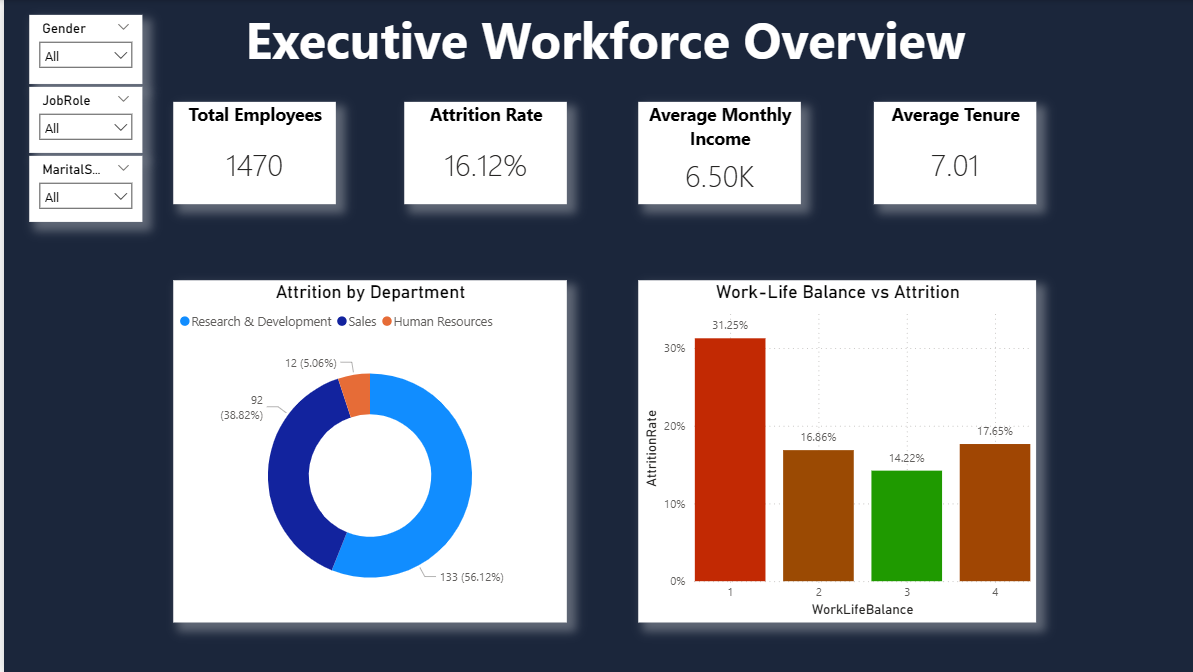

This screenshot's page, from the dashboard's own definition file:
{"tool":"powerbi","page":{"name":"Executive Workforce Overview","canvas":[1280,720],"ordinal":0},"visuals":[{"type":"card","title":"Total Employees","fields":{"Values":["Cleaned_HR_Analytics_Data.TotalEmployees"]},"box":[180.5,108.6,172.5,108.6],"z":0},{"type":"donutChart","title":"Attrition by Department","fields":{"Y":["Sum(Cleaned_HR_Analytics_Data.Attrition_Num)"],"Category":["Cleaned_HR_Analytics_Data.Department"]},"box":[180.5,298.8,418.6,364.3],"z":1000},{"type":"card","title":"Attrition Rate","fields":{"Values":["Cleaned_HR_Analytics_Data.AttritionRate"]},"box":[426.7,109.2,172.5,108.6],"z":2000},{"type":"columnChart","title":"Work-Life Balance vs Attrition","fields":{"Category":["Cleaned_HR_Analytics_Data.WorkLifeBalance"],"Y":["Cleaned_HR_Analytics_Data.AttritionRate"]},"box":[675.8,298.8,423.4,364.3],"z":3000},{"type":"card","title":"Average Monthly Income","fields":{"Values":["Avg(Cleaned_HR_Analytics_Data.MonthlyIncome)"]},"box":[675.9,109.2,172.5,108.6],"z":4000},{"type":"textbox","title":"Executive Workforce Overview","box":[220.5,0,840.4,89.5],"z":5000},{"type":"card","title":"Average Tenure","fields":{"Values":["Cleaned_HR_Analytics_Data.AvgTenure"]},"box":[926.8,109.2,172.5,108.6],"z":6000},{"type":"slicer","fields":{"Values":["Cleaned_HR_Analytics_Data.Gender"]},"box":[27.2,16,119.8,73.5],"z":7000},{"type":"slicer","fields":{"Values":["Cleaned_HR_Analytics_Data.JobRole"]},"box":[27.2,92.7,119.8,70.3],"z":8000},{"type":"slicer","fields":{"Values":["Cleaned_HR_Analytics_Data.MaritalStatus"]},"box":[27.2,166.2,119.8,70.3],"z":9000}]}

Visuals, with their boxes in screenshot pixels (x1, y1, x2, y2), scaled from the page's 1280x720 canvas onto the 1193x672 screenshot:
"Total Employees" card: (left=168, top=101, right=329, bottom=203)
"Attrition by Department" donutChart: (left=168, top=279, right=558, bottom=619)
"Attrition Rate" card: (left=398, top=102, right=558, bottom=203)
"Work-Life Balance vs Attrition" columnChart: (left=630, top=279, right=1024, bottom=619)
"Average Monthly Income" card: (left=630, top=102, right=791, bottom=203)
"Executive Workforce Overview" textbox: (left=206, top=0, right=989, bottom=84)
"Average Tenure" card: (left=864, top=102, right=1025, bottom=203)
slicer - Cleaned_HR_Analytics_Data.Gender: (left=25, top=15, right=137, bottom=84)
slicer - Cleaned_HR_Analytics_Data.JobRole: (left=25, top=87, right=137, bottom=152)
slicer - Cleaned_HR_Analytics_Data.MaritalStatus: (left=25, top=155, right=137, bottom=221)
